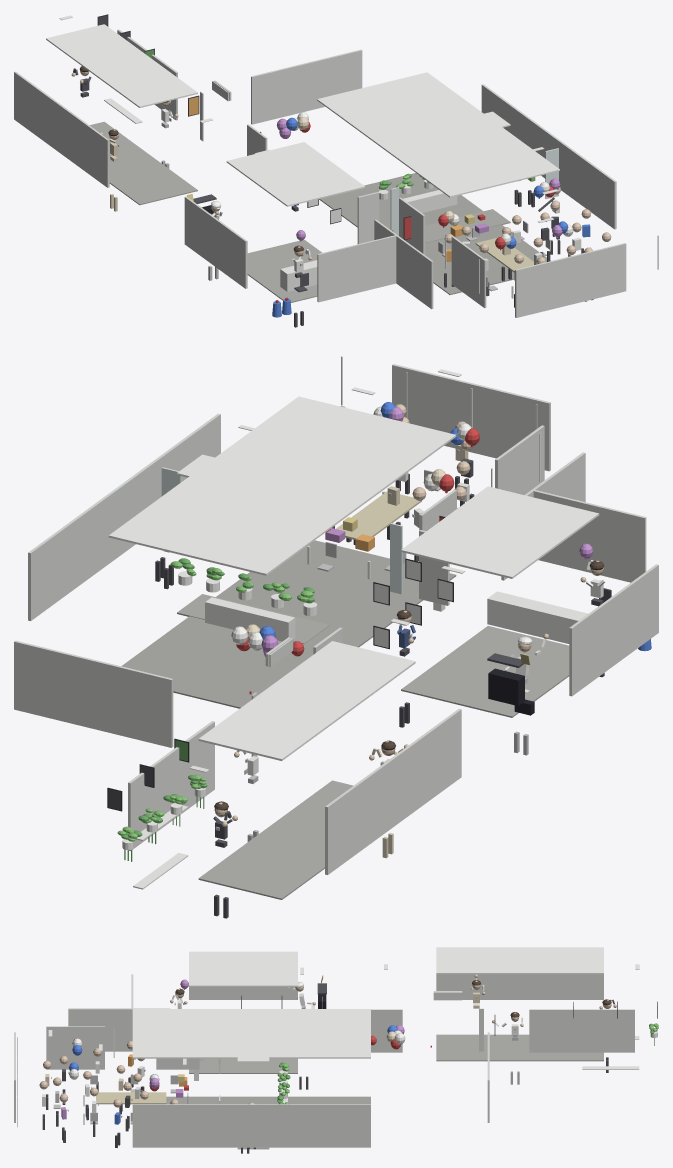
3 views of the same model, one above another, from view 1: azimuth 30°, elevation 25°; view 2: azimuth 150°, elevation 25°; view 3: azimuth 270°, elevation 25° (orthographic). The views are drawn at different scales.
Visible parts, largest first — view 1: S02_ceil, S01_ceil_corr, S02_wall_s, S02_wall_n, S01_ceil_rec, S02_wall_e, S01_wall_w_corr, S02_floor, S01_wall_s, S01_floor_corr, S01_wall_w_rec, S01_floor_rec (+11 smaller); view 2: S02_ceil, S02_floor, S01_ceil_corr, S02_wall_n, S02_wall_e, S01_ceil_rec, S01_wall_w_corr, S02_wall_s, S01_floor_corr, S01_floor_rec, S01_wall_w_rec, S01_wall_s (+11 smaller); view 3: S02_ceil, S02_wall_e, S01_ceil_corr, S01_wall_e_n, S01_wall_w_corr, S01_ceil_rec, S01_floor_corr, S02_wall_sw, S02_wall_w, S02_floor, S01_wall_w_rec, S01_floor_rec (+4 smaller).
Part boxes in pixels (left/top/right/bottom): S02_ceil: left=317, top=72, right=559, bottom=197; S01_ceil_corr: left=46, top=24, right=197, bottom=107; S02_wall_s: left=515, top=243, right=626, bottom=317; S02_wall_n: left=251, top=49, right=362, bottom=124; S01_ceil_rec: left=226, top=142, right=364, bottom=206; S02_wall_e: left=481, top=84, right=616, bottom=229; S01_wall_w_corr: left=14, top=71, right=109, bottom=187; S02_floor: left=319, top=173, right=550, bottom=294; S01_wall_s: left=317, top=235, right=397, bottom=302; S01_floor_corr: left=90, top=121, right=197, bottom=205; S01_wall_w_rec: left=184, top=196, right=247, bottom=288; S01_floor_rec: left=247, top=239, right=322, bottom=302; S02_ceil: left=108, top=396, right=456, bottom=575; S02_floor: left=121, top=540, right=456, bottom=708; S01_ceil_corr: left=198, top=641, right=415, bottom=760; S02_wall_n: left=14, top=640, right=173, bottom=747; S02_wall_e: left=28, top=413, right=220, bottom=620; S01_ceil_rec: left=401, top=486, right=599, bottom=578; S01_wall_w_corr: left=325, top=709, right=461, bottom=874; S02_wall_s: left=392, top=364, right=550, bottom=471; S01_floor_corr: left=198, top=780, right=353, bottom=899; S01_floor_rec: left=401, top=626, right=569, bottom=717; S01_wall_w_rec: left=569, top=564, right=658, bottom=696; S01_wall_s: left=531, top=489, right=646, bottom=582; S02_ceil: left=132, top=1009, right=370, bottom=1058; S02_wall_e: left=132, top=1104, right=370, bottom=1147; S01_ceil_corr: left=436, top=947, right=603, bottom=974; S01_wall_e_n: left=529, top=1009, right=634, bottom=1052; S01_wall_w_corr: left=436, top=974, right=603, bottom=999; S01_ceil_rec: left=189, top=951, right=297, bottom=986; S01_floor_corr: left=436, top=1034, right=603, bottom=1061; S02_wall_sw: left=46, top=1026, right=104, bottom=1069; S02_wall_w: left=68, top=1008, right=170, bottom=1051; S02_floor: left=166, top=1096, right=370, bottom=1104; S01_wall_w_rec: left=189, top=987, right=297, bottom=999; S01_floor_rec: left=189, top=1058, right=297, bottom=1073.
Size of the model in its own units: 10.48 by 3.49 by 19.23.
